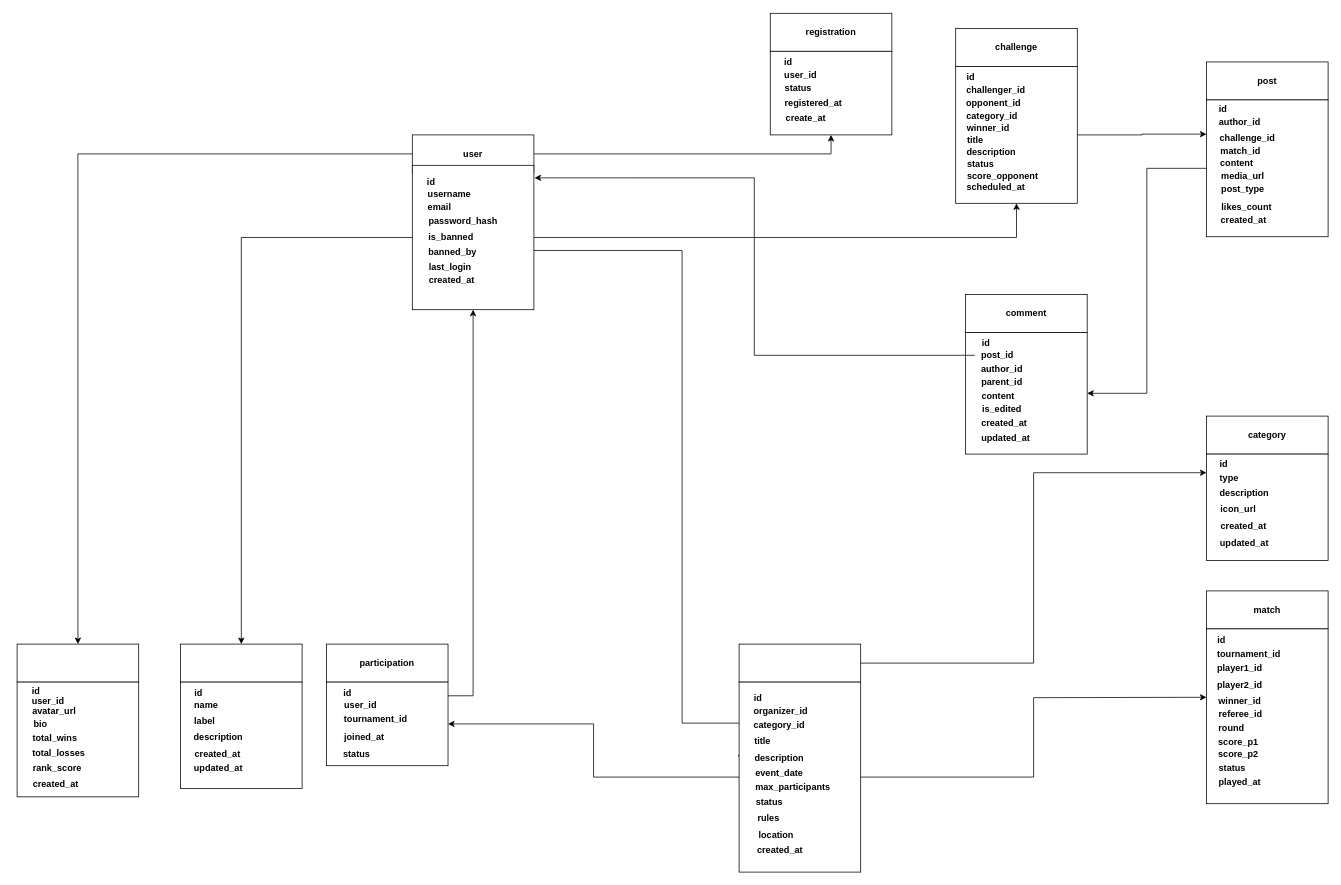
Image size: 1341x885. Some labels were removed from this diagram. Each missing label, with the centre of its shape:
competitor_profile: point 77,662
role: point 241,662
tournament: point 799,662
